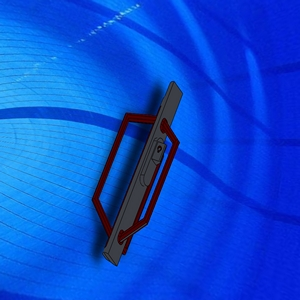submarine: (87, 71, 192, 282)
